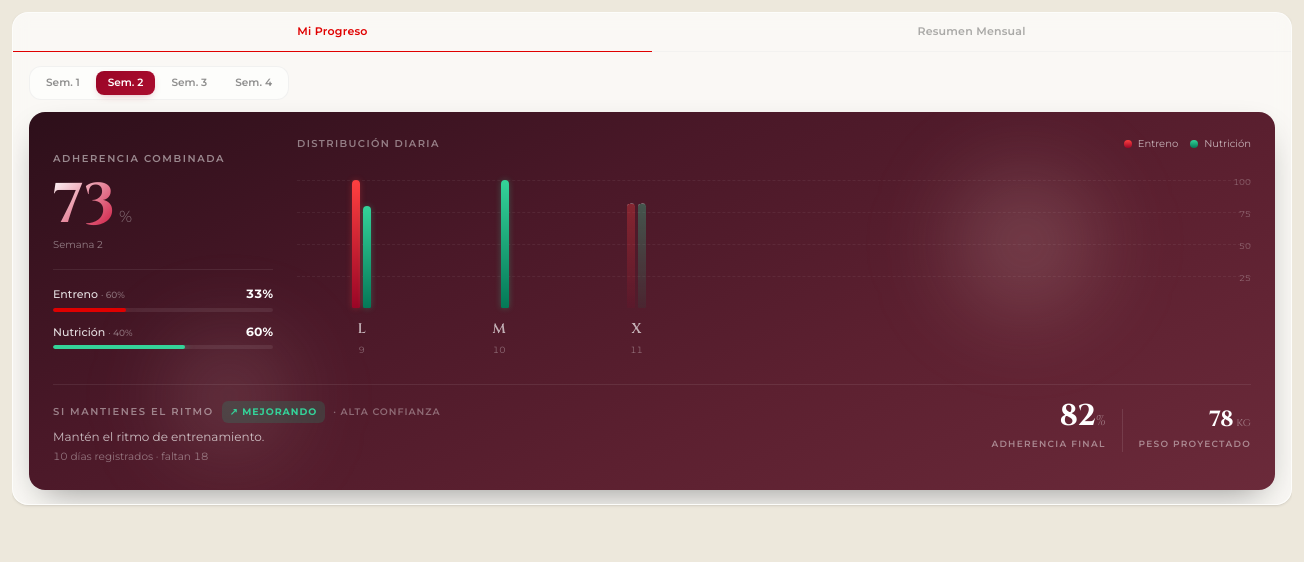
Scenario: ProgressTabsCard › switches to the monthly summary content when the Resumen tab is clicked
The image size is (1304, 562).
Step 1. Click the button "Resumen Mensual" → (972, 32), box [652,13,1291,51]
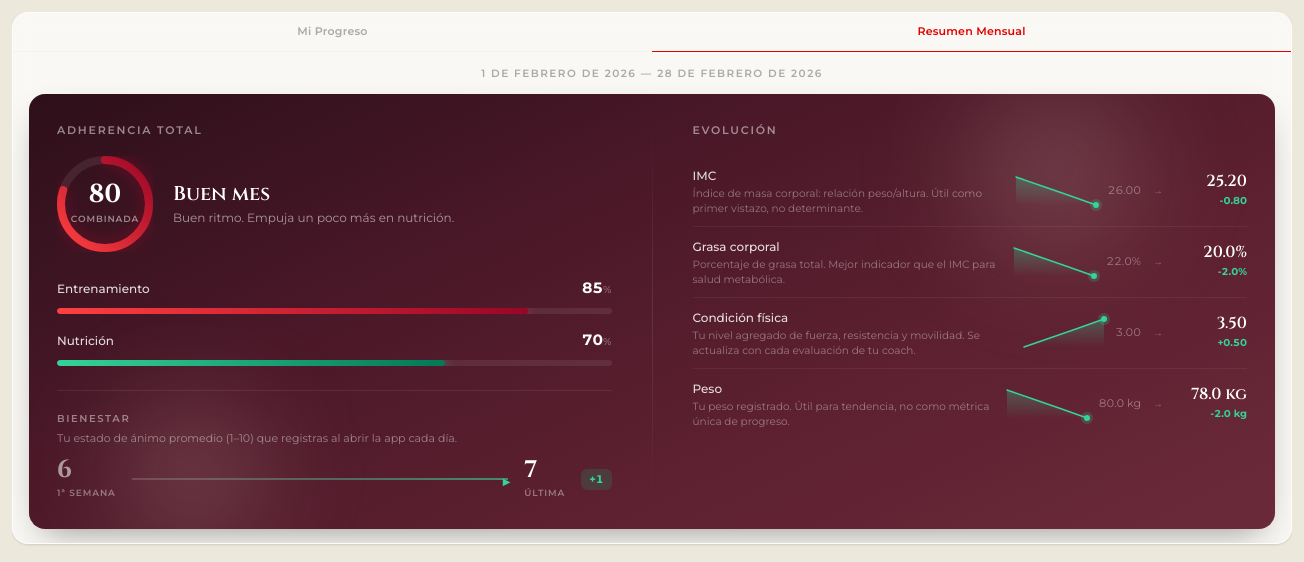
Now the text "Adherencia total" is shown, box [57,123,202,137]
